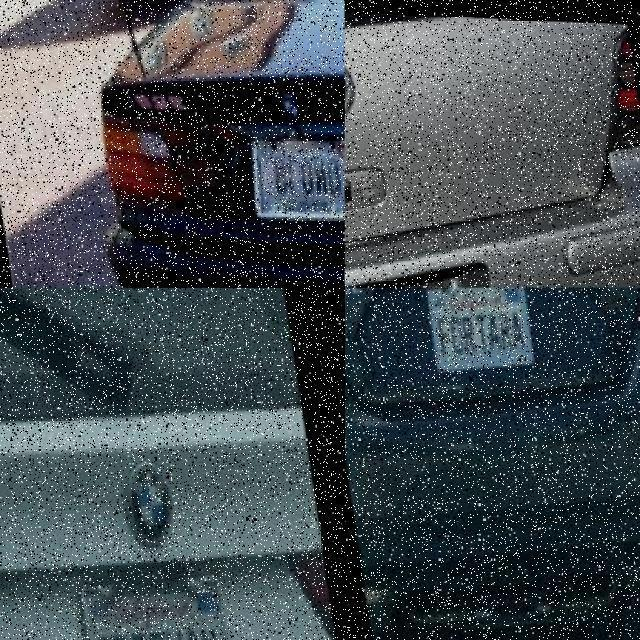license-plate: (423, 301, 555, 384)
